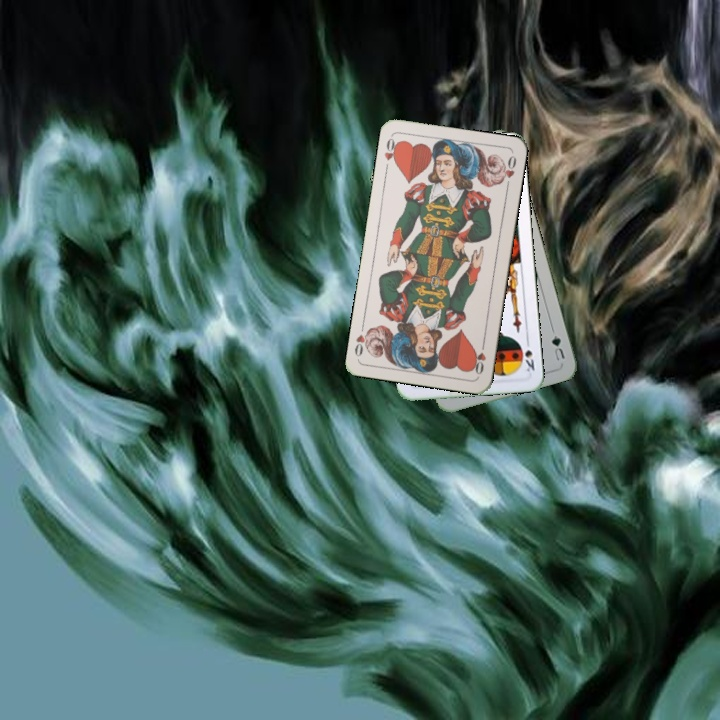GU: (547, 325, 568, 363)
HO: (380, 133, 402, 173), (469, 337, 488, 377)
SK: (517, 335, 537, 374)
